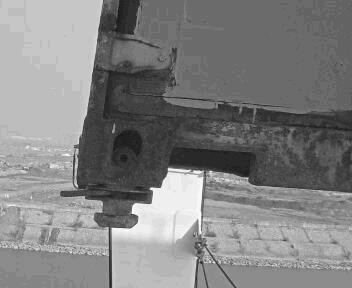twist_lock_1: (71, 181, 159, 234)
